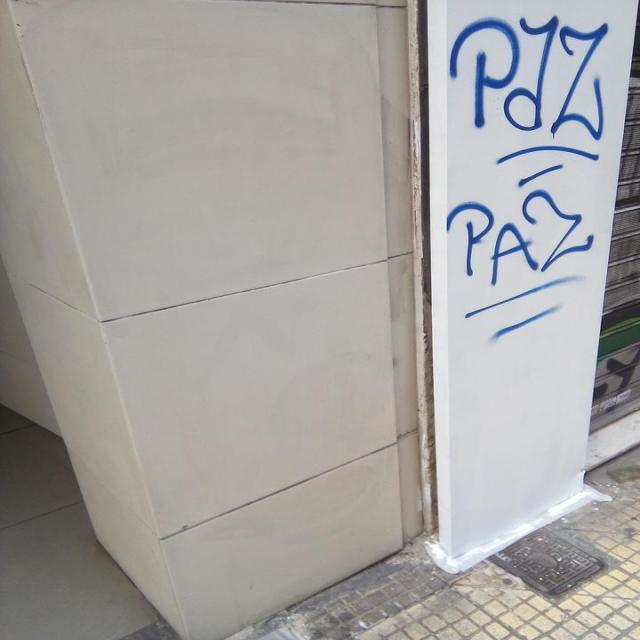nonspitting: (446, 14, 609, 340)
